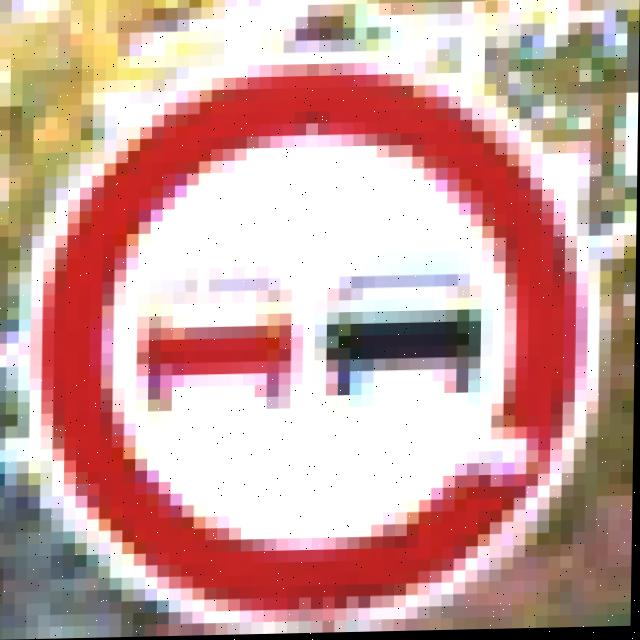no_overtaking: (27, 70, 594, 595)
